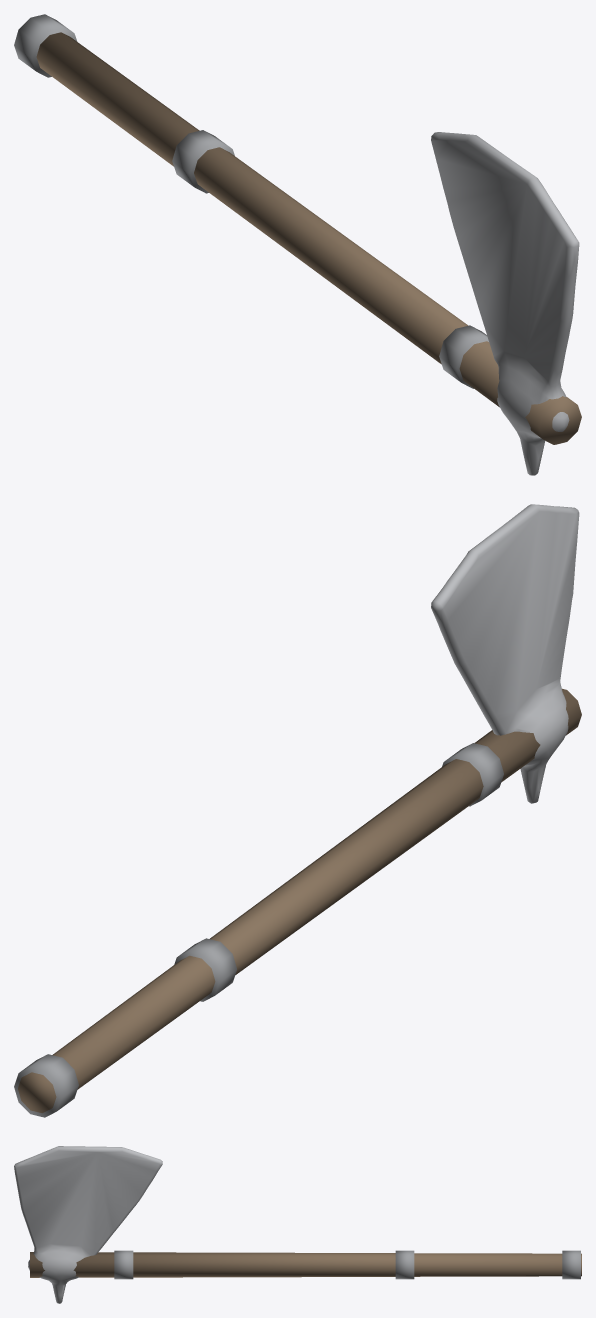
Rendered from Axe.fbx.
3 views of the same model, one above another, from view 1: azimuth 30°, elevation 25°; view 2: azimuth 150°, elevation 25°; view 3: azimuth 270°, elevation 25° (orthographic). The views are drawn at different scales.
Visible parts, largest first — view 1: Axe; view 2: Axe; view 3: Axe.
Part boxes in pixels (x1,y1,x2,y2): Axe: (14,14,581,475); Axe: (14,504,581,1117); Axe: (14,1146,581,1303).
Bounding box in the file's own units: 2.8 × 16.67 × 54.54.
